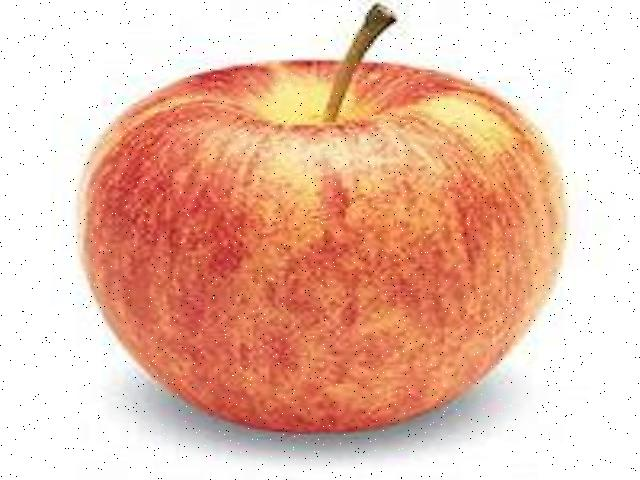apple: (66, 0, 573, 438)
